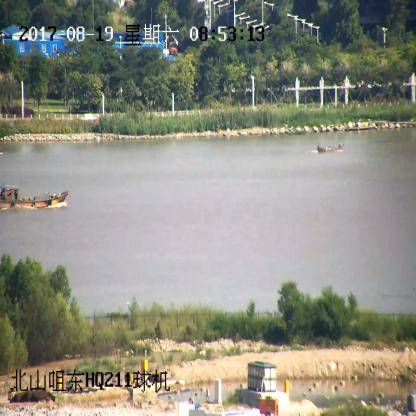Fishing Boat: (0, 184, 67, 209), (318, 143, 344, 153)
